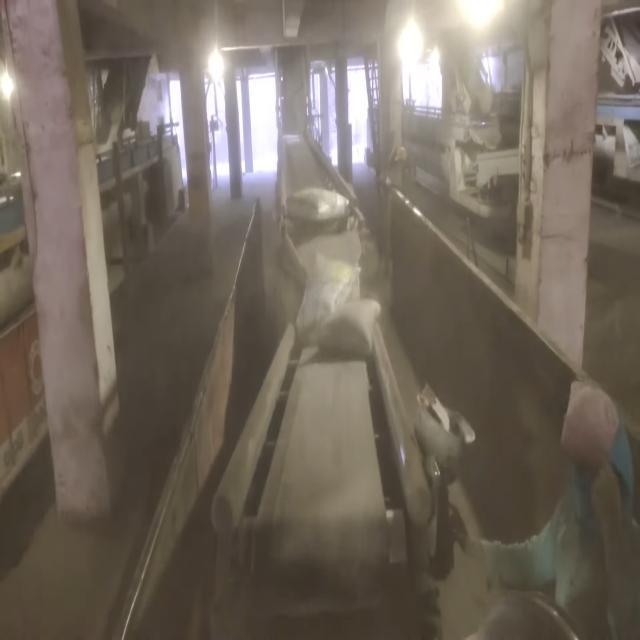gunny_bag: (318, 299, 381, 355), (287, 186, 349, 221)
